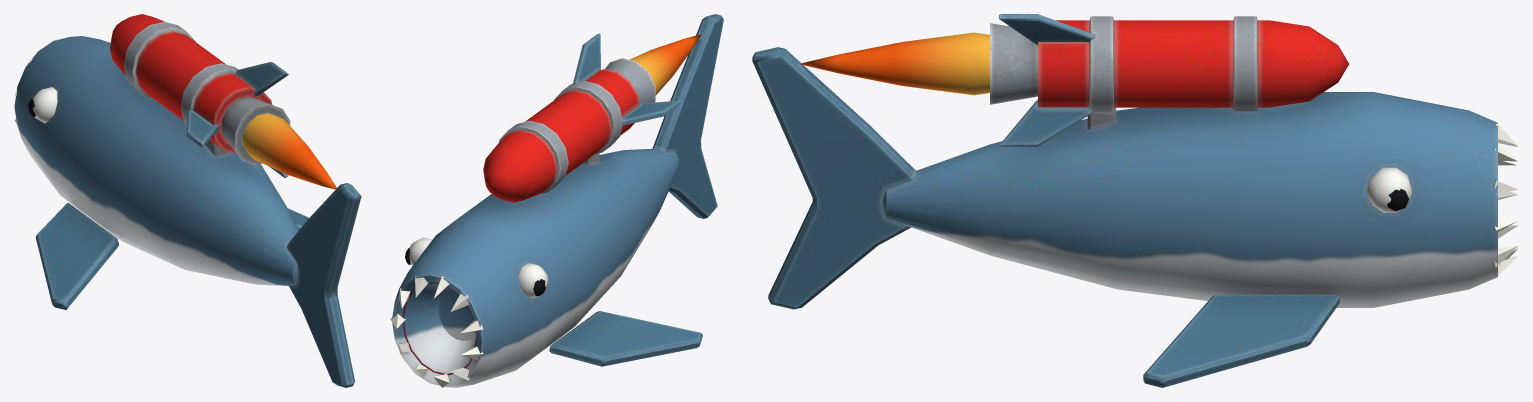
File: proj_shark.glb
The picture shows the model from 3 angles, left to right: view 1: azimuth 30°, elevation 25°; view 2: azimuth 150°, elevation 25°; view 3: azimuth 270°, elevation 25°; orthographic projection. The views are drawn at different scales.
Parts seen in each view (by area): view 1: proj_shark; view 2: proj_shark; view 3: proj_shark.
Part boxes in pixels (x1=…): proj_shark: x1=14, y1=14, x2=361, y2=387; proj_shark: x1=390, y1=14, x2=723, y2=387; proj_shark: x1=752, y1=14, x2=1518, y2=387.
Bounding box in the file's own units: 0.2595 × 0.2141 × 0.4799.
Materials: 9 (9 with a texture image).
